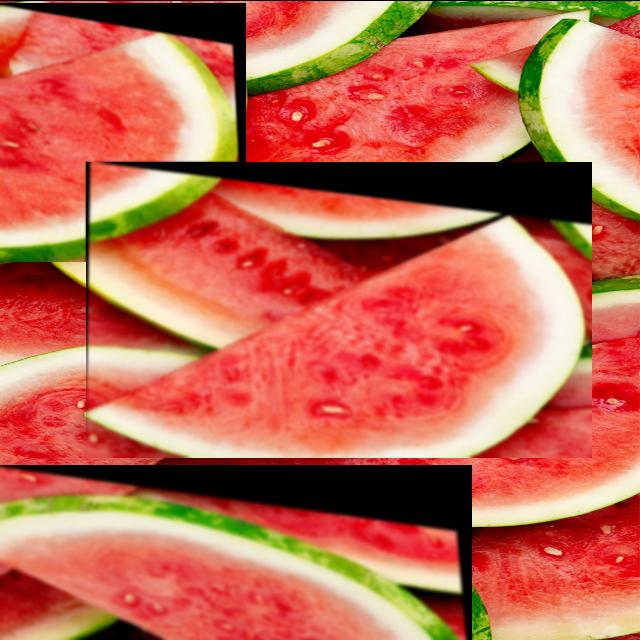watermelon: (87, 161, 592, 457), (0, 464, 472, 640), (0, 2, 246, 261)
